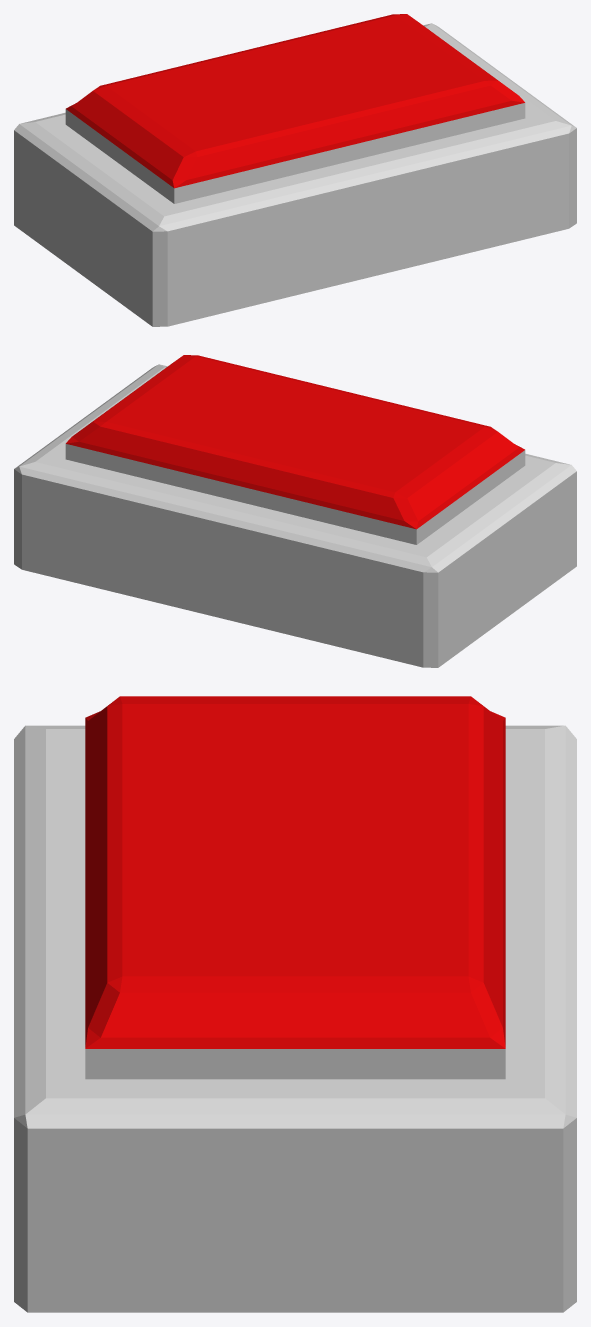
Rendered from indicator.fbx.
3 views of the same model, one above another, from view 1: azimuth 30°, elevation 25°; view 2: azimuth 150°, elevation 25°; view 3: azimuth 270°, elevation 25° (orthographic). The views are drawn at different scales.
Parts seen in each view (by area): view 1: Cube; view 2: Cube; view 3: Cube.
Boxes of the visible parts, x1=… form: Cube: x1=14, y1=14, x2=576, y2=326; Cube: x1=14, y1=355, x2=576, y2=667; Cube: x1=14, y1=696, x2=576, y2=1312.
Bounding box in the file's own units: 180 × 58.33 × 107.
